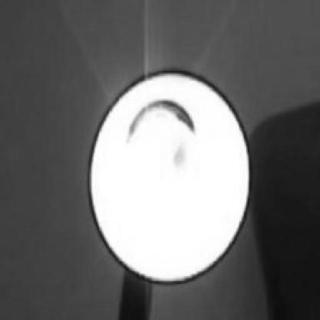other: (88, 86, 254, 278)
